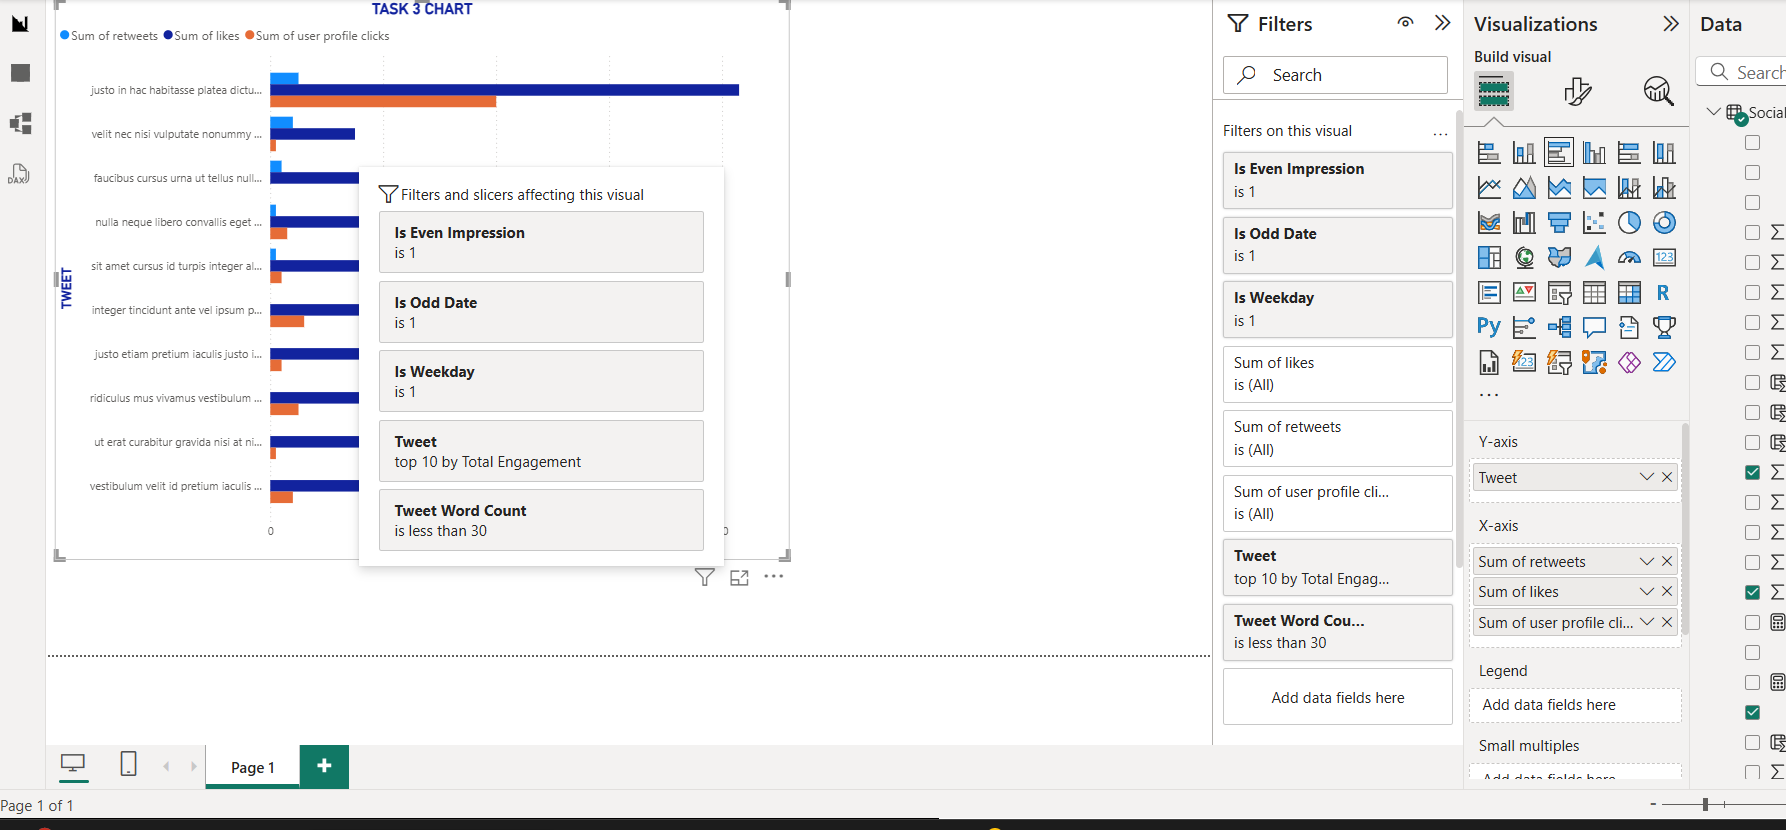

Layout of this report page (visuals, bound fields, positions):
{"tool":"powerbi","page":{"name":"Page 1","canvas":[1280,720],"ordinal":0},"visuals":[{"type":"clusteredBarChart","title":"TASK 3 CHART","fields":{"Category":["SocialMedia.Tweet"],"Y":["Sum(SocialMedia.retweets)","Sum(SocialMedia.likes)","Sum(SocialMedia.user profile clicks)"]},"box":[9.6,0,1034.7,596.9],"z":0}]}

Visuals, with their boxes on the page's 1280x720 design canvas (x1, y1, x2, y2). These are canvas units, not pixel positions in the 1786x830 screenshot, which may show the page scaled, cropped or inside an application window:
"TASK 3 CHART" clusteredBarChart: 10,0,1044,597
